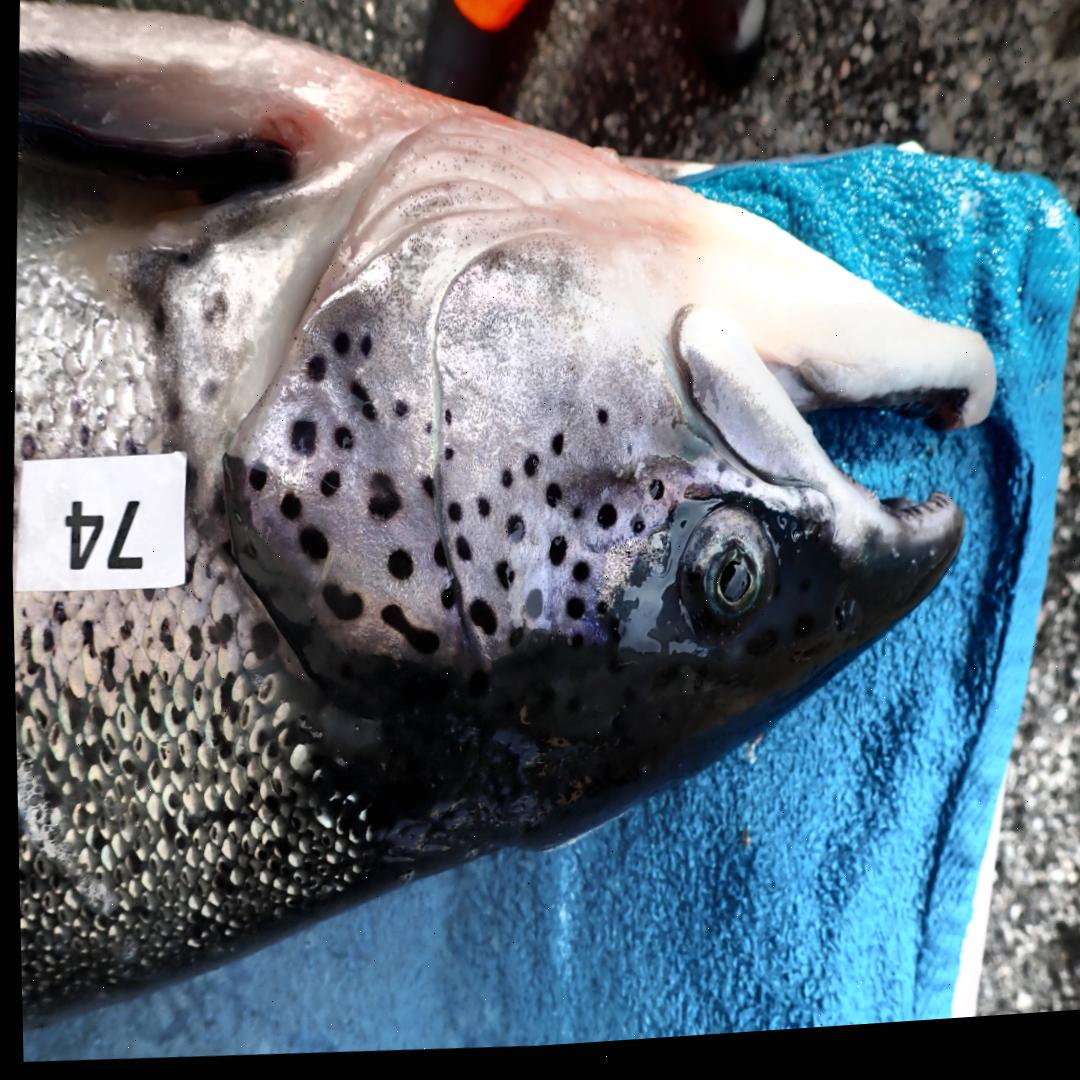spot: (376, 608, 434, 660), (364, 476, 397, 524), (319, 588, 359, 624), (346, 384, 374, 426), (465, 603, 493, 641), (287, 421, 314, 458), (296, 531, 325, 564), (383, 552, 409, 585), (520, 594, 539, 626), (245, 464, 264, 494), (544, 543, 563, 573), (316, 474, 337, 501), (502, 521, 521, 550), (277, 496, 297, 523), (304, 359, 324, 386), (331, 429, 351, 455), (593, 511, 612, 537), (492, 567, 509, 594), (330, 335, 348, 359), (562, 605, 581, 627), (452, 540, 468, 566), (542, 489, 558, 515), (520, 459, 535, 483), (645, 487, 661, 509), (429, 546, 442, 572), (443, 507, 458, 528), (473, 503, 487, 525), (568, 569, 585, 587), (504, 633, 519, 653), (548, 439, 560, 463), (238, 544, 254, 562), (418, 480, 430, 503), (437, 592, 450, 613), (356, 338, 369, 359), (390, 404, 405, 422), (626, 523, 641, 541), (498, 475, 509, 493), (568, 640, 579, 654), (594, 417, 604, 431), (440, 450, 449, 465), (593, 608, 603, 620), (441, 413, 448, 430), (569, 513, 577, 526), (421, 427, 428, 439)
